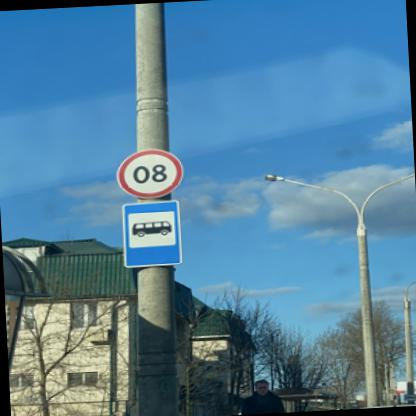speedlimit: (118, 146, 184, 197)
